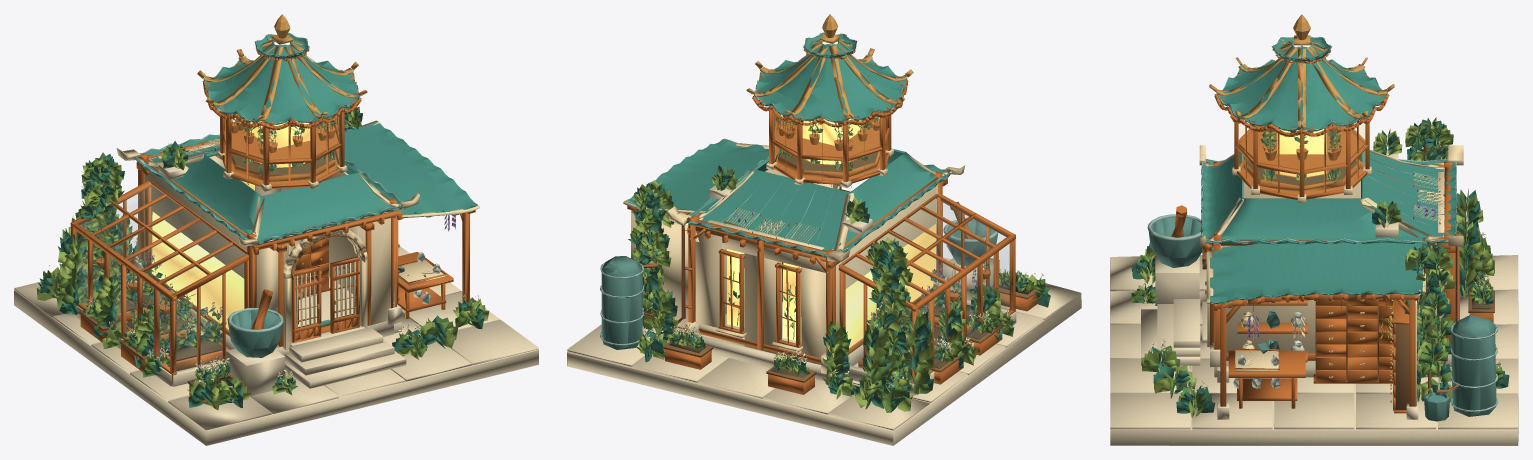
Rendered from herb-lod2-54d9bc5fdd20.glb.
The picture shows the model from 3 angles, left to right: view 1: azimuth 30°, elevation 25°; view 2: azimuth 150°, elevation 25°; view 3: azimuth 270°, elevation 25°; orthographic projection. The views are drawn at different scales.
Visible parts, largest first — view 1: RFbatch_0.030, RFbatch_6.030, RFbatch_17.030, RFbatch_2.030, RFbatch_56.030, RFbatch_46.030, RFbatch_55.030, RFbatch_83.020, RFbatch_99.017, RFbatch_8.030, RFbatch_81.020, RFbatch_39.030 (+4 smaller); view 2: RFbatch_6.030, RFbatch_17.030, RFbatch_0.030, RFbatch_2.030, RFbatch_46.030, RFbatch_56.030, RFbatch_55.030, RFbatch_99.017, RFbatch_81.020, RFbatch_83.020, RFbatch_22.030, RFbatch_8.030 (+5 smaller); view 3: RFbatch_0.030, RFbatch_17.030, RFbatch_6.030, RFbatch_81.020, RFbatch_56.030, RFbatch_55.030, RFbatch_46.030, RFbatch_83.020, RFbatch_2.030, RFbatch_8.030, RFbatch_18.030, RFbatch_29.030 (+4 smaller).
Boxes of the visible parts, x1,y1,x2,y2 form: RFbatch_0.030: (14,163,538,445); RFbatch_6.030: (70,48,475,402); RFbatch_17.030: (135,33,477,243); RFbatch_2.030: (144,142,395,348); RFbatch_56.030: (37,107,484,407); RFbatch_46.030: (43,106,477,405); RFbatch_55.030: (36,108,489,409); RFbatch_83.020: (116,120,479,349); RFbatch_99.017: (152,120,310,337); RFbatch_8.030: (144,14,395,308); RFbatch_81.020: (227,266,404,357); RFbatch_39.030: (83,154,333,384); RFbatch_6.030: (627,46,1037,394); RFbatch_17.030: (625,32,951,257); RFbatch_0.030: (567,185,1081,445); RFbatch_2.030: (631,169,937,364); RFbatch_46.030: (630,114,1045,412); RFbatch_56.030: (628,116,1050,412); RFbatch_55.030: (632,112,1050,411); RFbatch_99.017: (727,118,935,355); RFbatch_81.020: (601,220,997,349); RFbatch_83.020: (623,138,965,373); RFbatch_22.030: (941,202,1009,309); RFbatch_8.030: (746,14,913,118); RFbatch_0.030: (1110,149,1518,445); RFbatch_17.030: (1201,37,1456,303); RFbatch_6.030: (1171,49,1493,413); RFbatch_81.020: (1148,216,1496,421); RFbatch_56.030: (1131,119,1509,413); RFbatch_55.030: (1138,117,1494,418); RFbatch_46.030: (1131,118,1504,416); RFbatch_83.020: (1199,145,1463,393); RFbatch_2.030: (1213,167,1444,406); RFbatch_8.030: (1205,14,1394,402); RFbatch_18.030: (1147,36,1498,411); RFbatch_29.030: (1202,124,1494,410).
Bounding box in the file's own units: 9.97 × 9.33 × 9.99.
22 materials, 12 textured.
